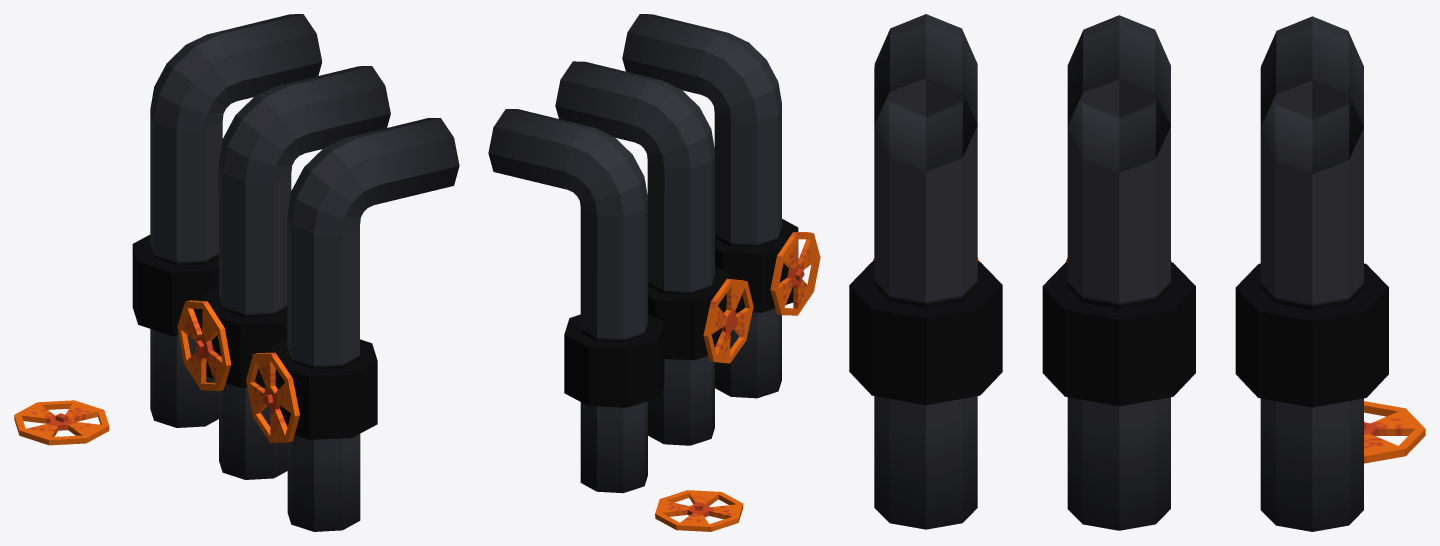
Rendered from Pipes.fbx.
3 views of the same model, side by side, from view 1: azimuth 30°, elevation 25°; view 2: azimuth 150°, elevation 25°; view 3: azimuth 270°, elevation 25° (orthographic). The views are drawn at different scales.
Parts seen in each view (by area): view 1: Окружность.016; view 2: Окружность.016; view 3: Окружность.016.
Boxes of the visible parts, left/top/right/bottom form: Окружность.016: left=14, top=14, right=459, bottom=531; Окружность.016: left=488, top=14, right=820, bottom=531; Окружность.016: left=849, top=14, right=1425, bottom=531.
Bounding box in the file's own units: 282 × 373 × 383.
